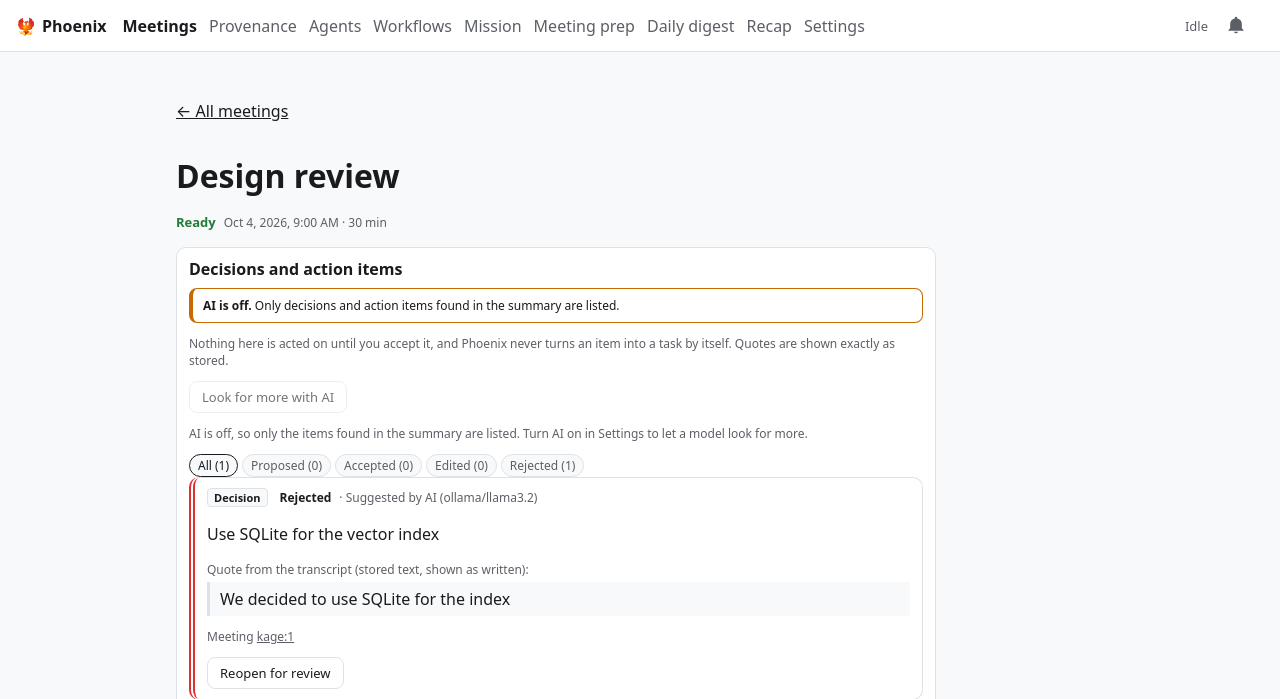
Test: Decisions and action items of a meeting › rejected items can be reopened, never straight to accepted
Click the button "Reopen for review": click(275, 673) x1=207 y1=657 x2=344 y2=689
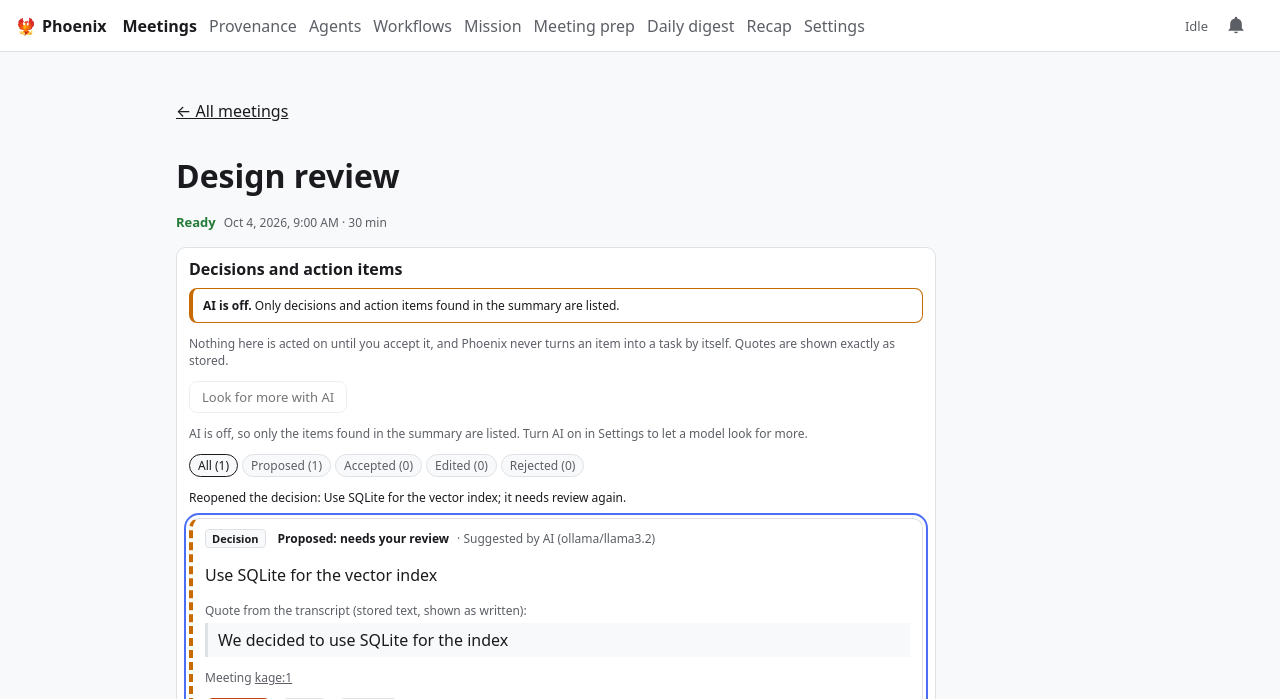
Expected: the text "Proposed: needs your review" is shown, x1=278 y1=530 x2=449 y2=547
